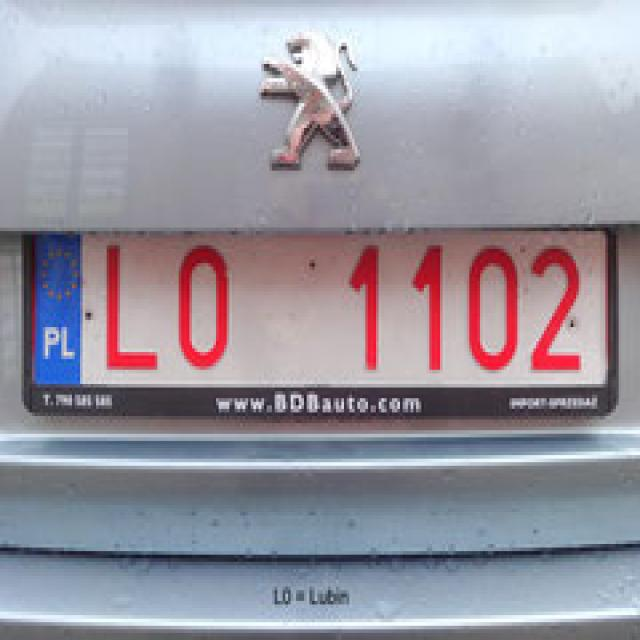pl_license_plate: (29, 228, 606, 380)
